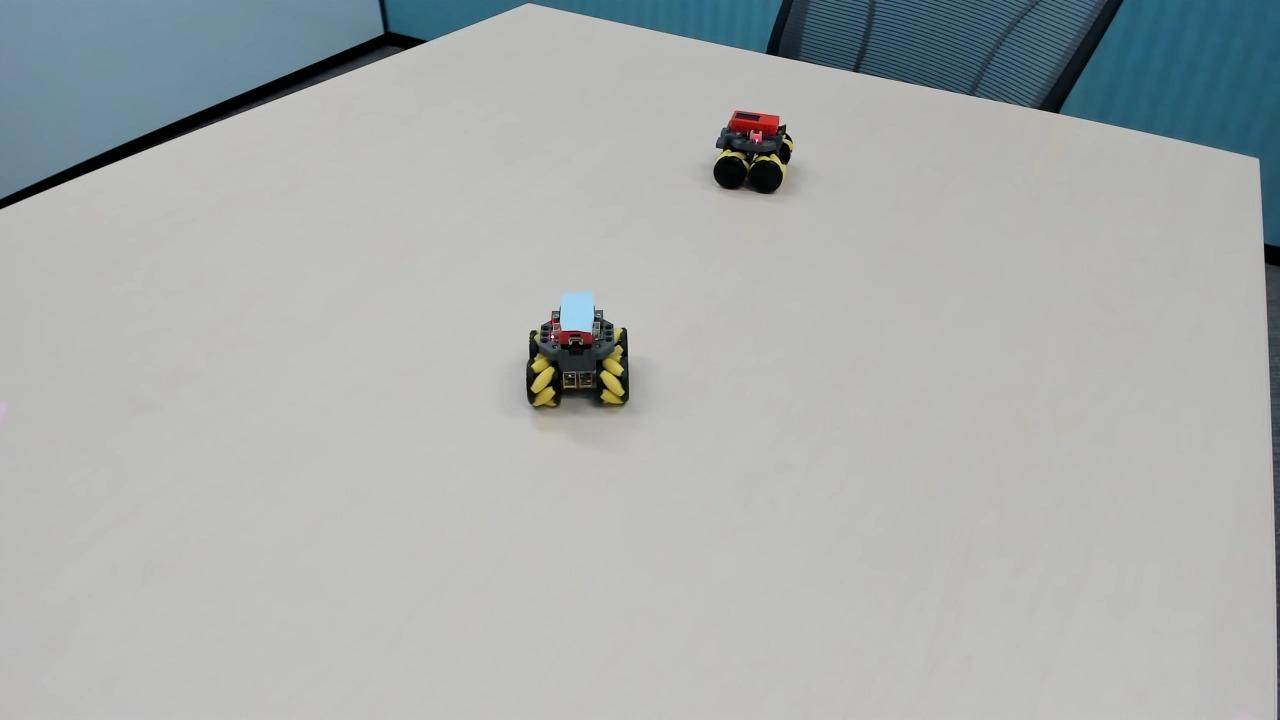B-Robot: (509, 264, 648, 434)
R-Robot: (699, 95, 801, 202)
